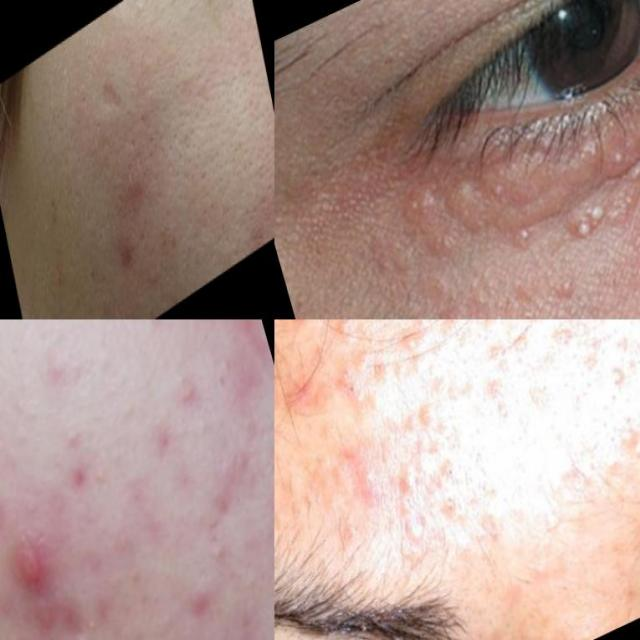7: (544, 197, 617, 267), (604, 141, 640, 188)
8: (0, 516, 64, 609), (109, 149, 153, 223), (347, 450, 384, 500)
blackheads: (374, 183, 468, 287), (440, 156, 525, 242), (536, 121, 619, 195), (93, 65, 127, 126)
dark spot: (328, 360, 364, 410), (535, 319, 573, 363), (483, 333, 517, 382), (483, 384, 515, 428), (432, 488, 462, 534), (434, 452, 461, 486)
